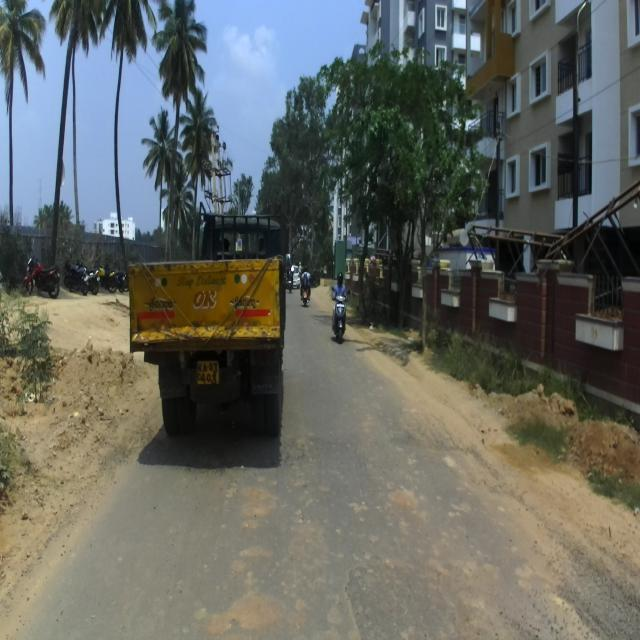truck ahead at: (137, 202, 287, 459)
